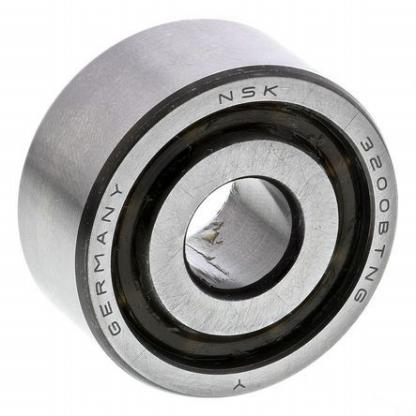FOD: (13, 12, 401, 402)
